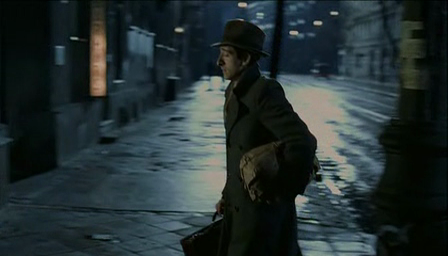face: (216, 46, 234, 80)
mls: (1, 1, 448, 256)
person: (214, 18, 318, 256)
